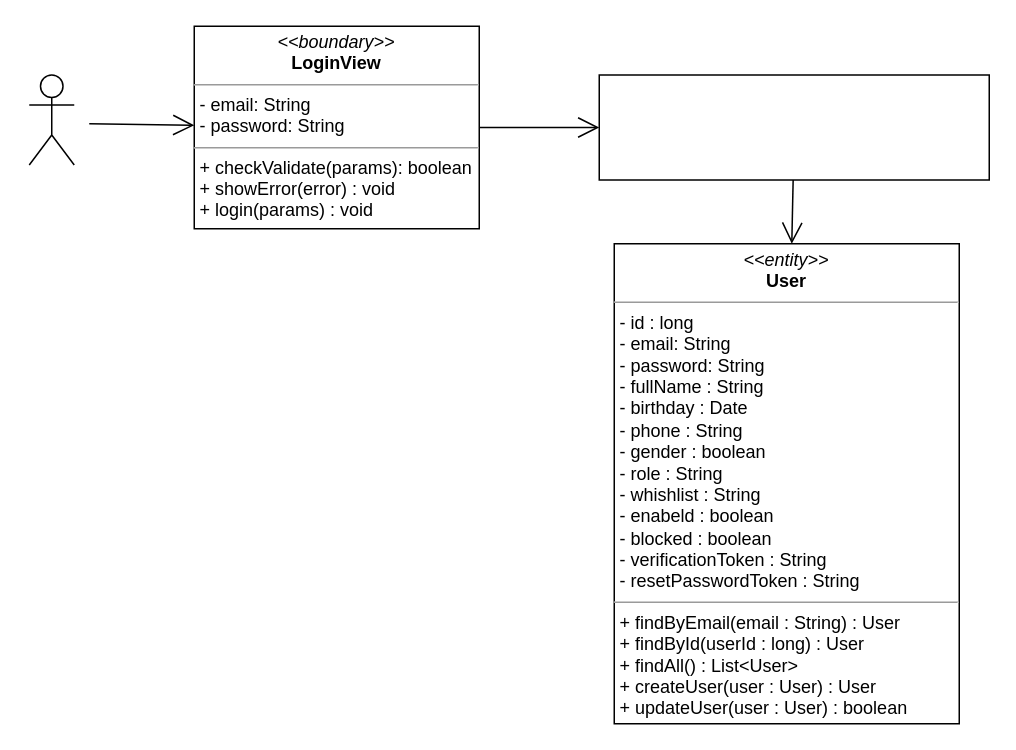
Some shapes in this 1016 by 750 pixel diagram are drawn without their labels. The box of each missing label's shape, as (x1, y1, x2, y2) in pixels:
<<control>> LoginController + login(email : String, password : String): void: (598, 74, 989, 180)
Khách: (28, 74, 74, 165)
